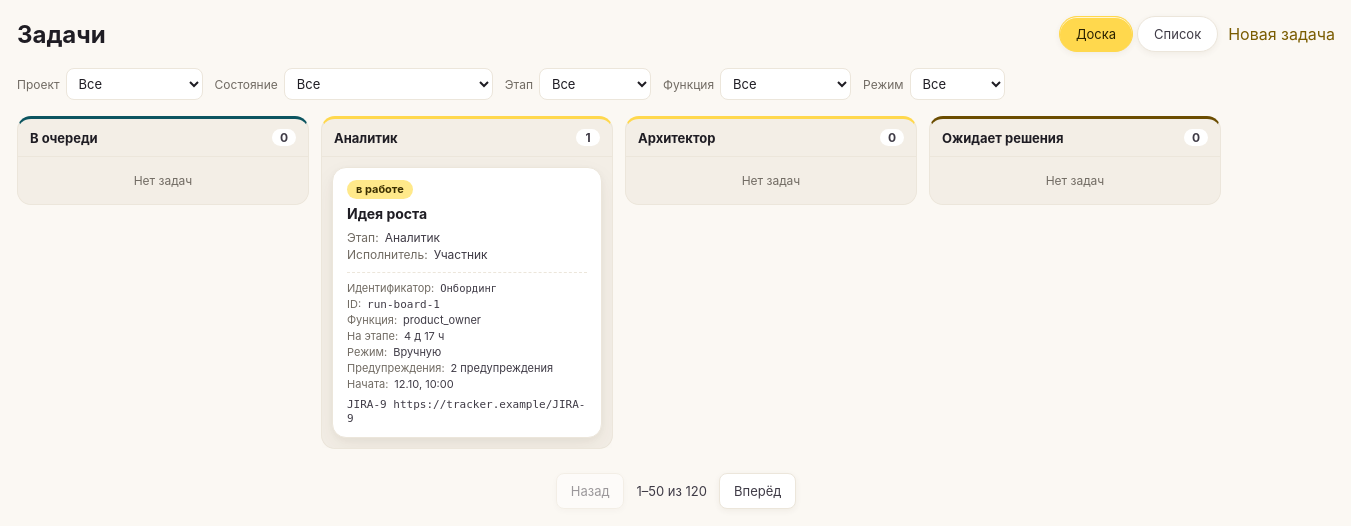
Scenario: Tasks board › показывает список с пагинацией при большом числе задач
Expected: the heading "Идея роста" is shown, [347,205,427,222]
Click the button "Список".
click(1178, 34)  # box [1137,16,1218,52]
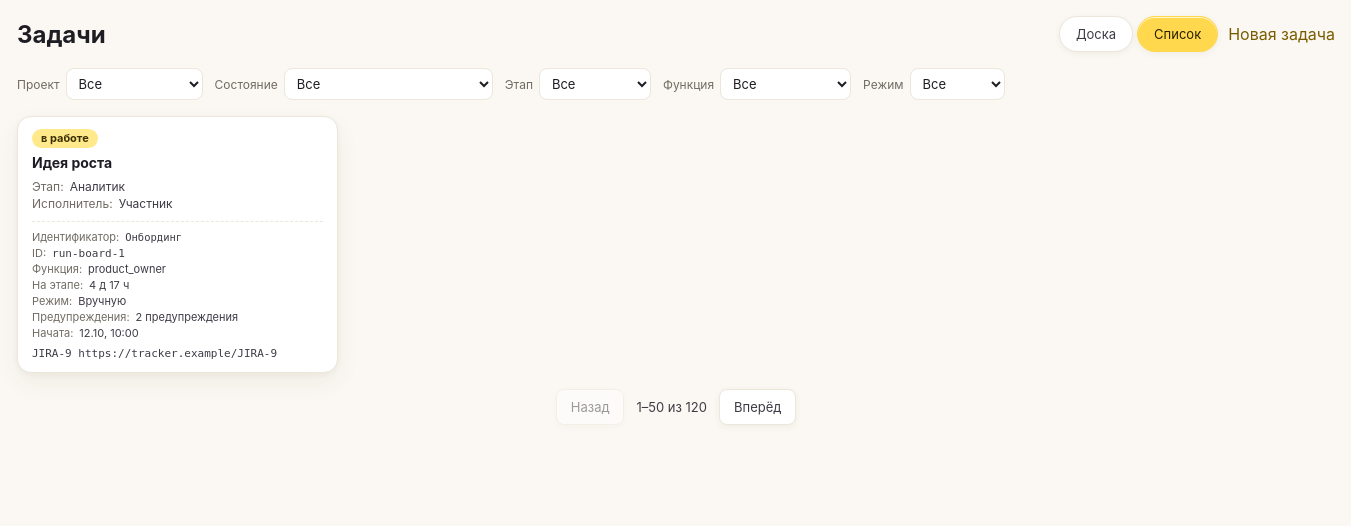
Expected: the element named "Список задач" is shown, [17,116,338,373]
Expected: the text "1–50 из 120" is shown, [636,399,707,415]
Click the button "Вперёд".
click(758, 407)  # box [719,389,796,425]
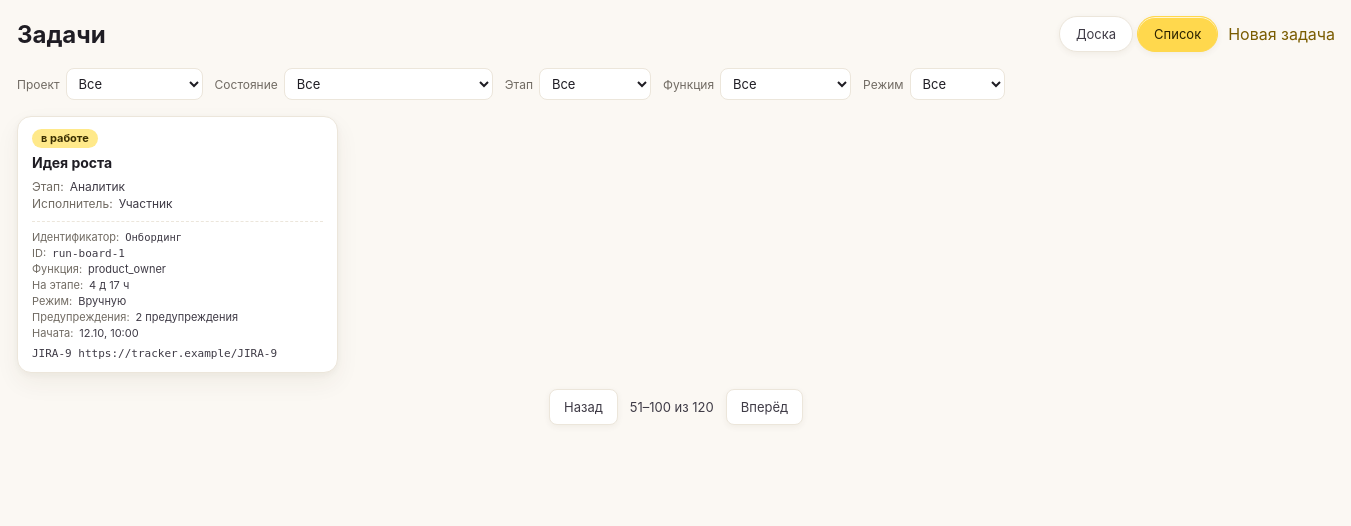
Result: the text "51–100 из 120" is shown at [630,399,714,415]
